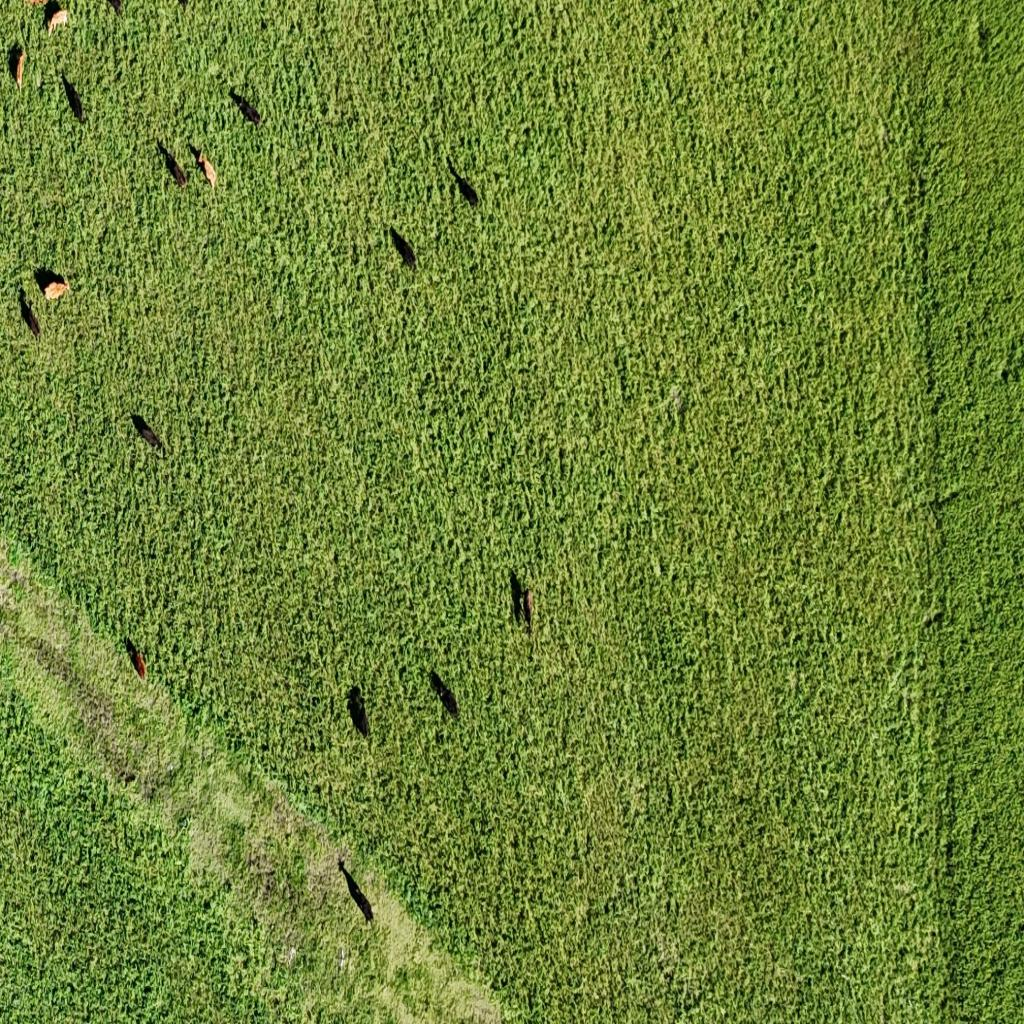cow: (338, 860, 375, 928), (23, 1, 67, 36), (449, 158, 479, 207), (430, 670, 459, 720), (347, 684, 371, 740), (131, 414, 164, 454), (510, 570, 532, 629), (36, 267, 70, 304), (391, 226, 418, 272), (19, 292, 42, 345), (229, 88, 260, 127), (127, 636, 148, 682), (8, 43, 26, 92), (66, 83, 85, 121), (168, 154, 187, 190), (104, 0, 124, 18), (174, 0, 190, 12)
